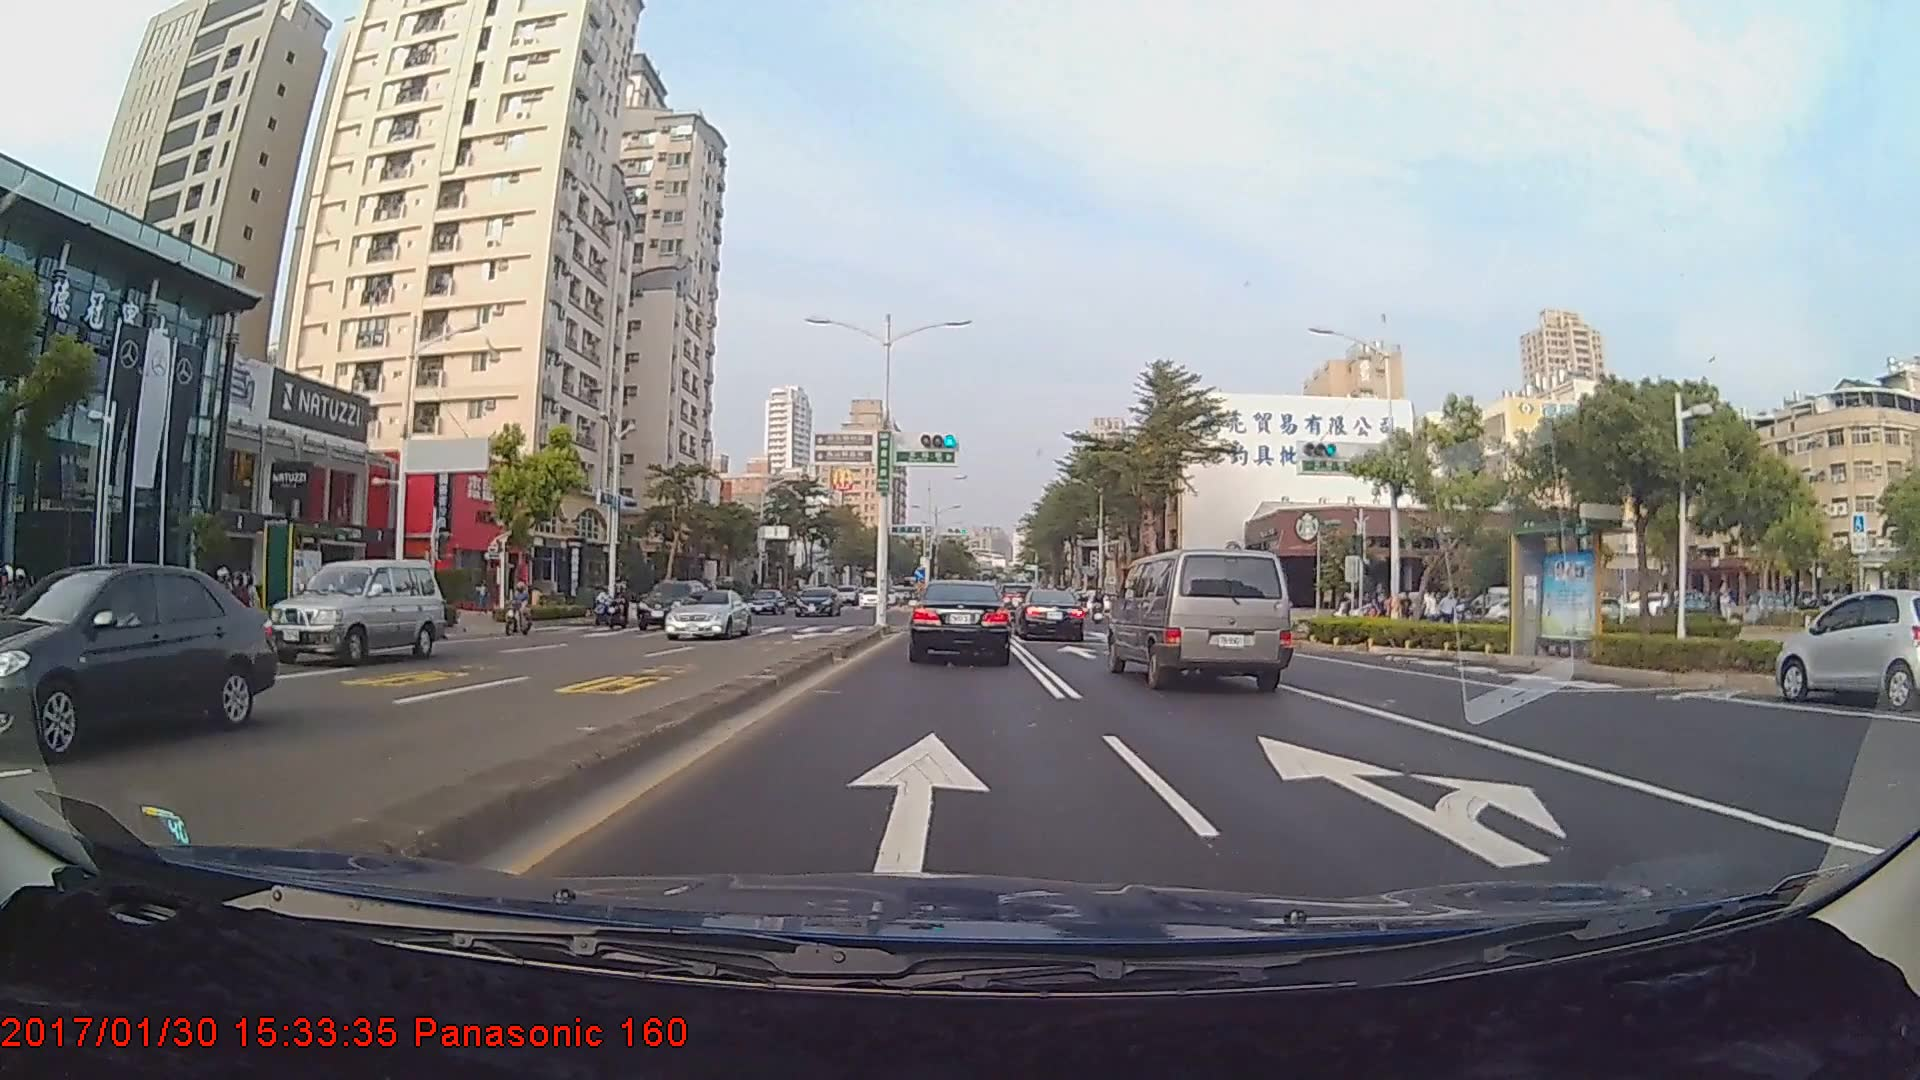rider: (198, 559, 253, 635), (498, 578, 539, 640), (600, 578, 629, 633), (590, 586, 615, 628)
vehicle: (0, 559, 278, 764), (1109, 544, 1293, 693), (260, 555, 444, 664), (1773, 585, 1920, 711), (910, 578, 1010, 663), (662, 589, 750, 640), (635, 576, 708, 631), (1016, 588, 1086, 642), (793, 584, 843, 618)
